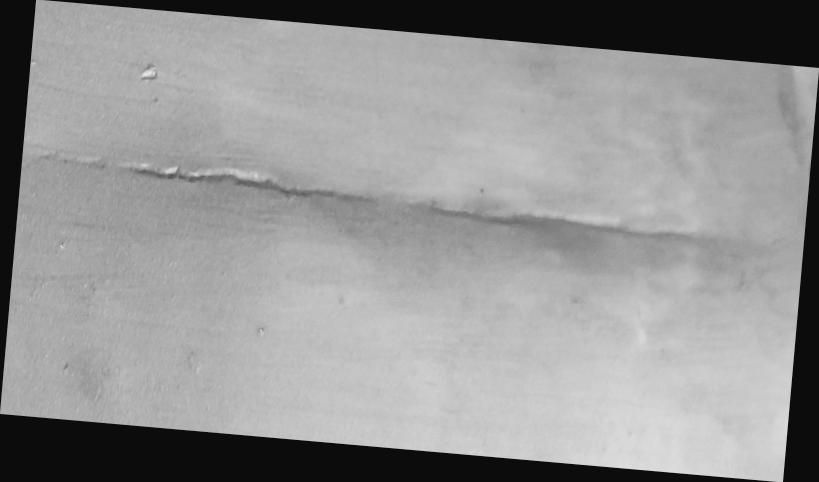scratch: (1, 0, 819, 482)
